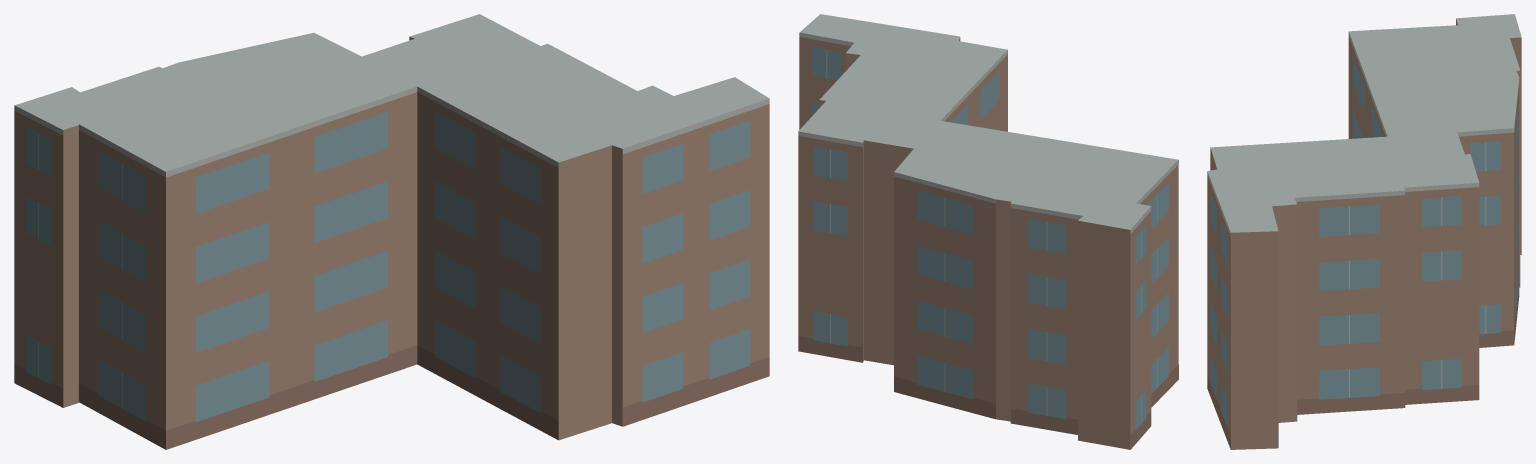
The model's file is survey-upis-32475044.glb.
3 renders of one model, left to right at view 1: azimuth 30°, elevation 25°; view 2: azimuth 150°, elevation 25°; view 3: azimuth 270°, elevation 25°, orthographic. The views are drawn at different scales.
Visible parts, largest first — view 1: survey-upis-32475044.tmp; view 2: survey-upis-32475044.tmp; view 3: survey-upis-32475044.tmp.
Boxes of the visible parts, x1,y1,x2,y2 form: survey-upis-32475044.tmp: (14,14,769,449); survey-upis-32475044.tmp: (798,14,1178,449); survey-upis-32475044.tmp: (1207,14,1521,449).
Bounding box in the file's own units: 26.35 × 12.2 × 16.02.
